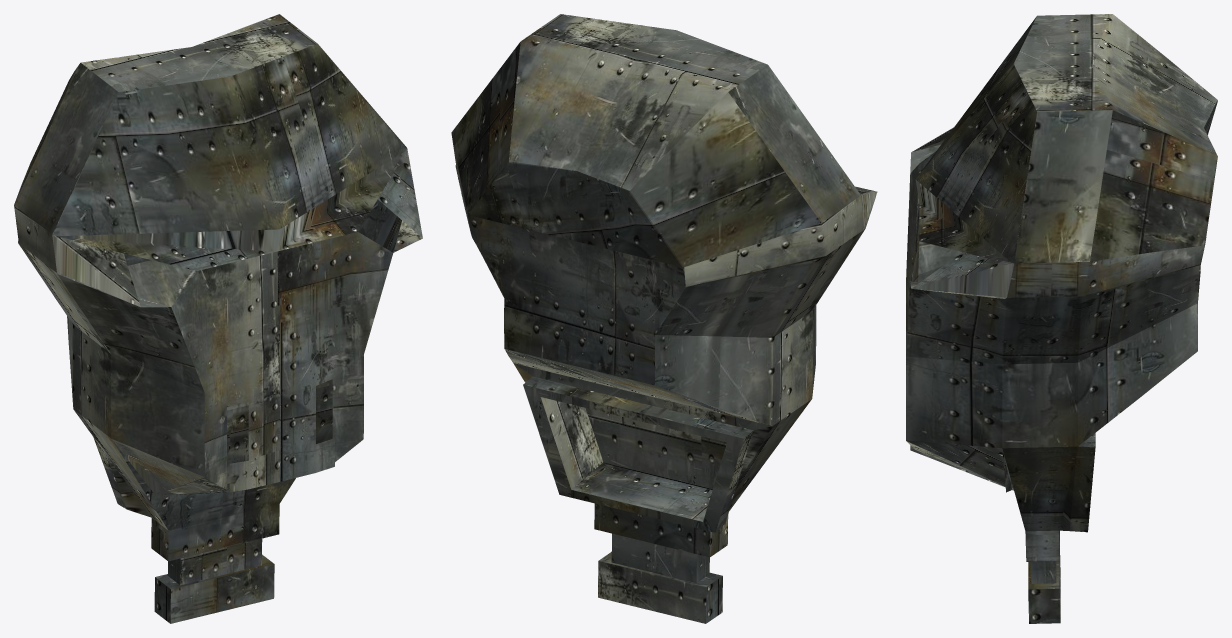
The model's file is basicHeadNew.fbx.
3 renders of one model, left to right at view 1: azimuth 30°, elevation 25°; view 2: azimuth 150°, elevation 25°; view 3: azimuth 270°, elevation 25°, orthographic. The views are drawn at different scales.
Parts seen in each view (by area): view 1: GenHelmet; view 2: GenHelmet; view 3: GenHelmet.
Part boxes in pixels (left/top/right/bottom): GenHelmet: left=14, top=14, right=422, bottom=623; GenHelmet: left=451, top=14, right=877, bottom=623; GenHelmet: left=906, top=14, right=1217, bottom=623.
Bounding box in the file's own units: 118 × 172 × 90.67.
